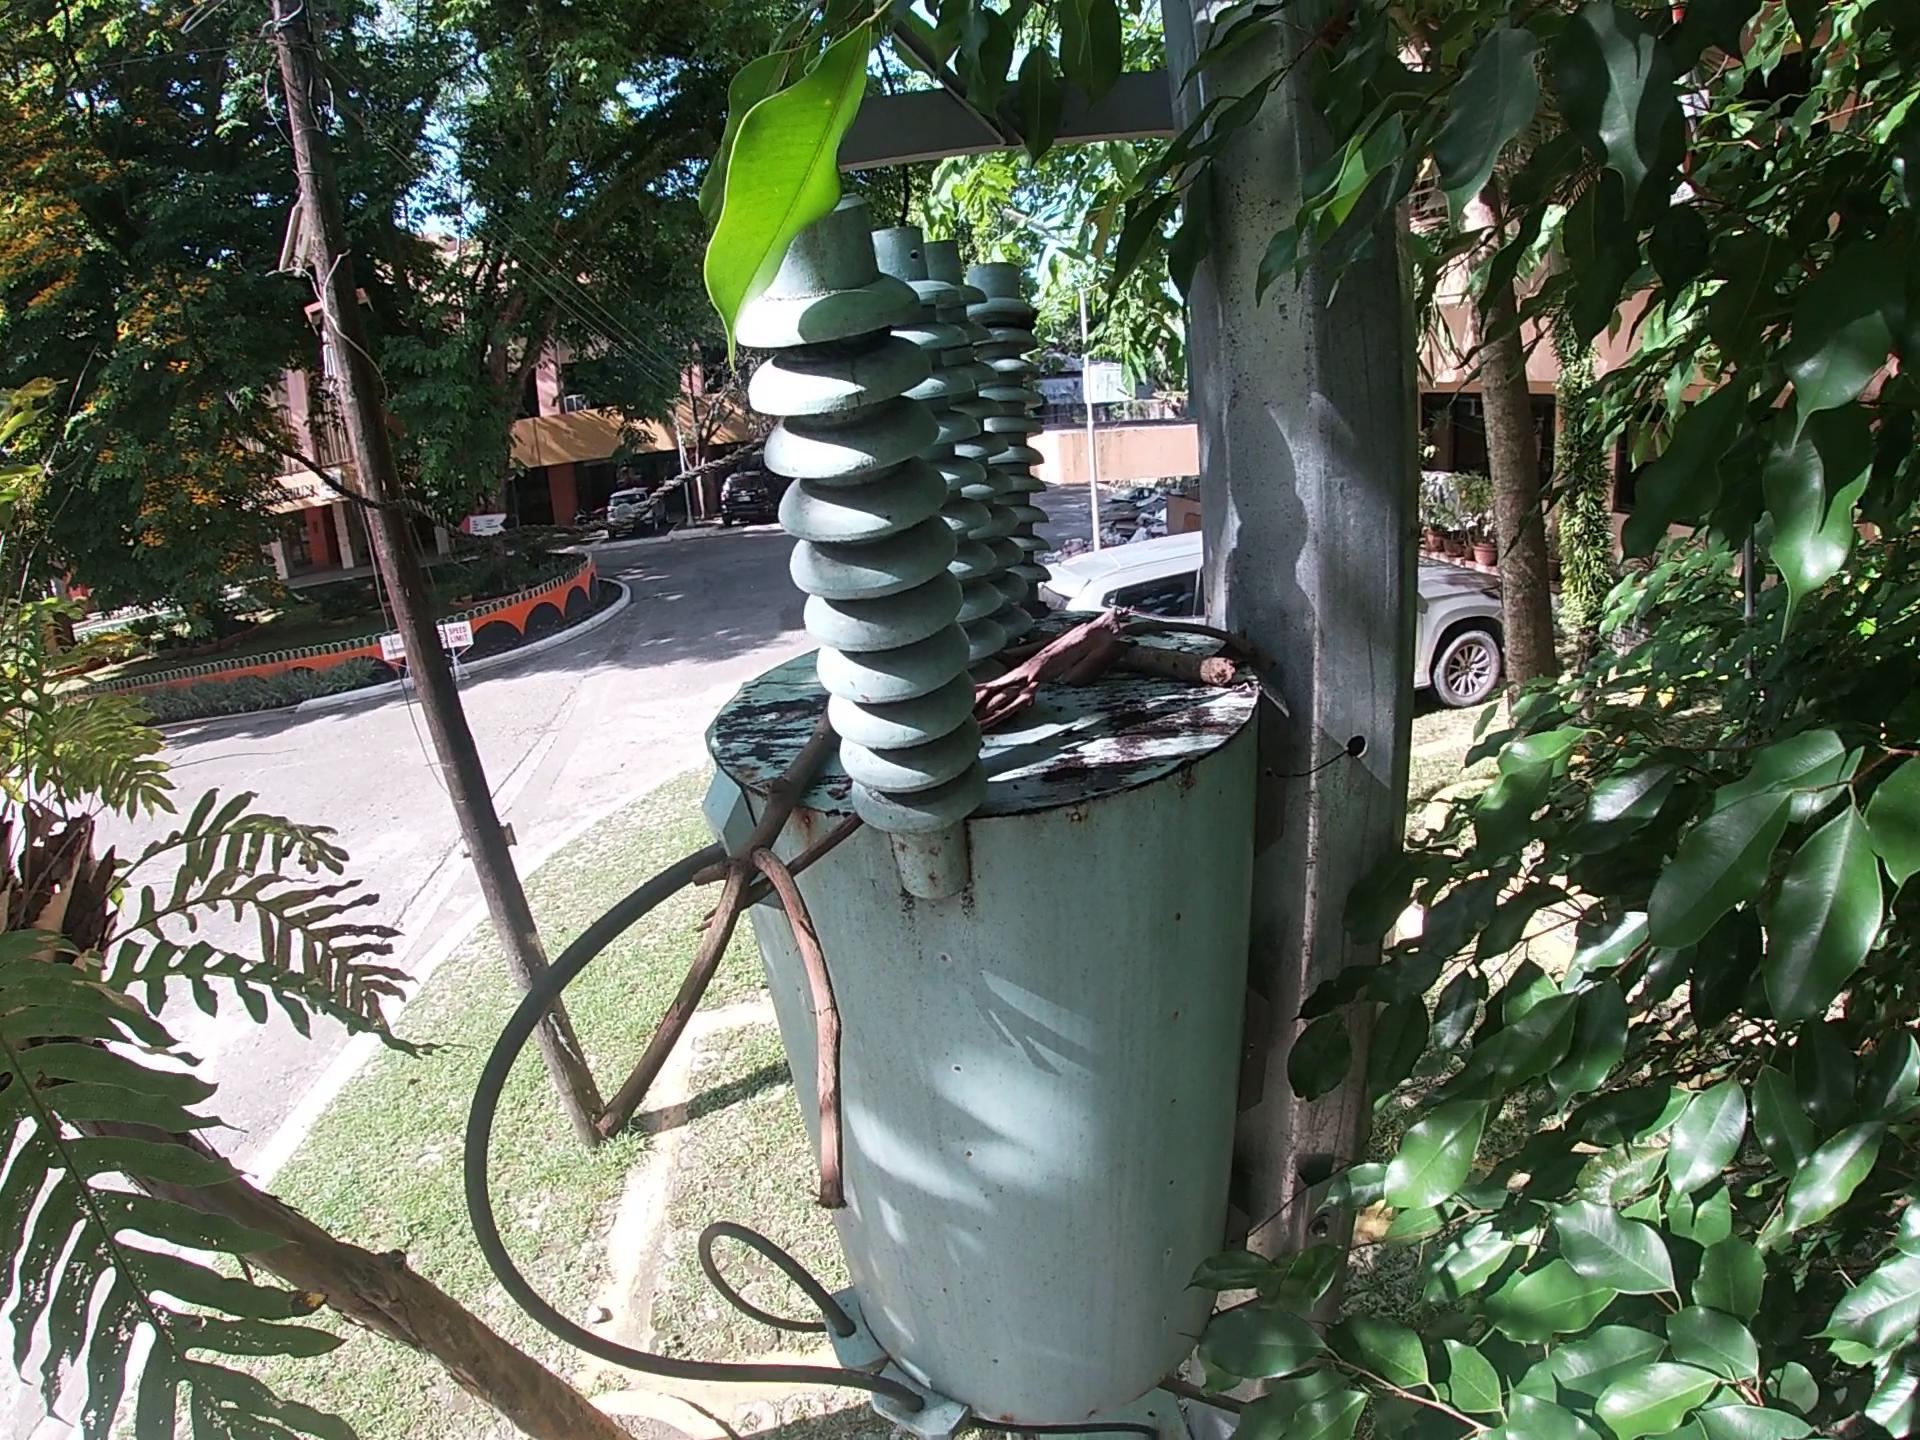tree branch: (578, 717, 856, 1234), (965, 610, 1132, 729), (977, 610, 1281, 659), (1101, 643, 1250, 685), (998, 638, 1042, 653)
